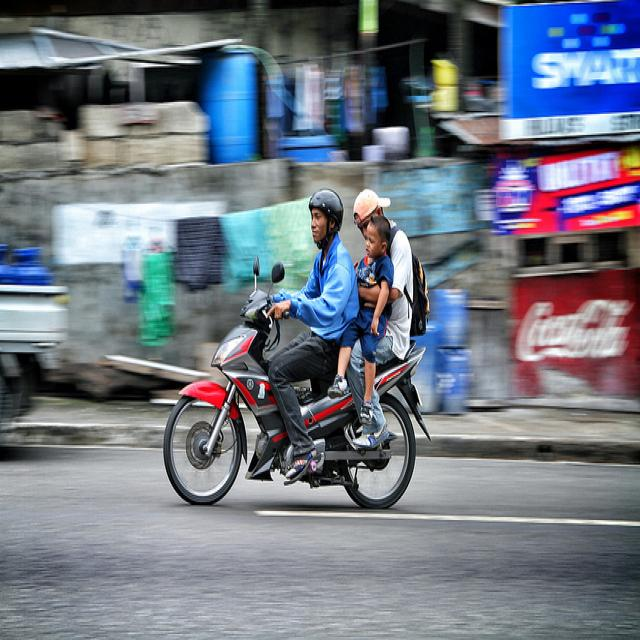motor: (168, 260, 432, 504)
